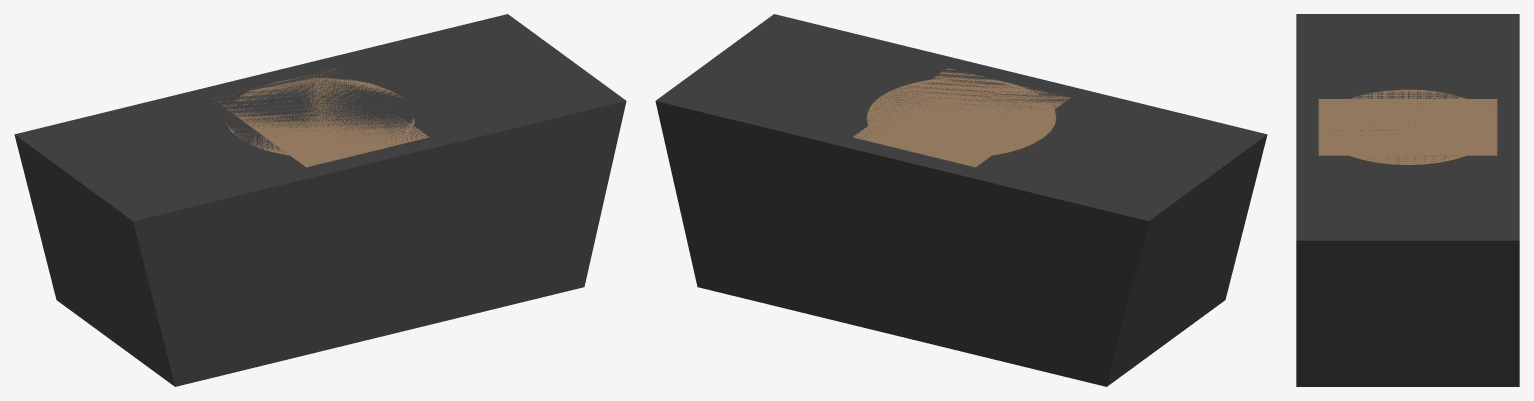
The model's file is leg.gltf.
3 views of the same model, side by side, from view 1: azimuth 30°, elevation 25°; view 2: azimuth 150°, elevation 25°; view 3: azimuth 270°, elevation 25° (orthographic). The views are drawn at different scales.
Parts seen in each view (by area): view 1: Leg1, Leg (×2); view 2: Leg1, Leg (×2); view 3: Leg1, Leg (×2).
Boxes of the visible parts, x1,y1,x2,y2 form: Leg1: [14, 14, 626, 386]; Leg (×2): [212, 68, 428, 167]; Leg1: [655, 14, 1267, 386]; Leg (×2): [853, 68, 1069, 167]; Leg1: [1296, 14, 1519, 386]; Leg (×2): [1318, 89, 1497, 164].
Size of the model in its own units: 0.1524 by 0.0519 by 0.0635.
